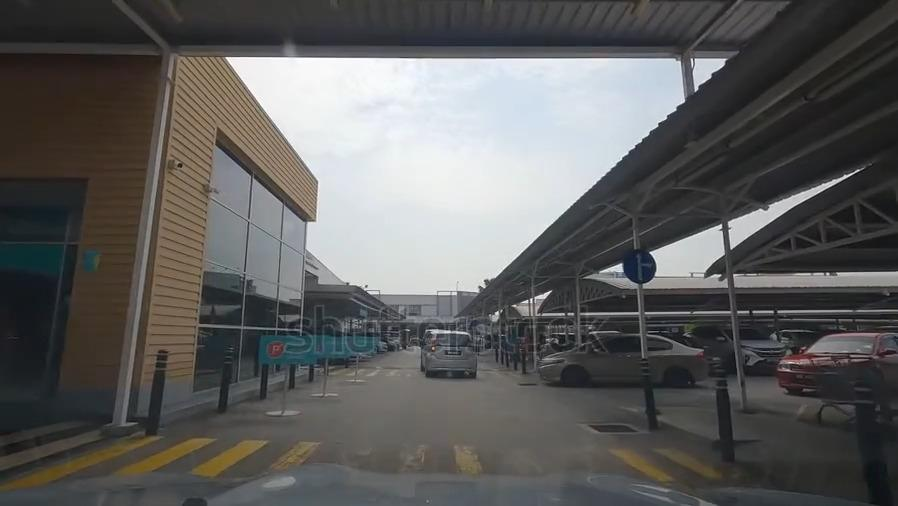car: (533, 330, 706, 387), (781, 334, 898, 391), (689, 323, 790, 373), (418, 329, 477, 381), (769, 326, 812, 347)
manhole: (587, 421, 638, 439), (517, 376, 539, 392)
pedestrian: (0, 444, 730, 492), (317, 371, 523, 377)
